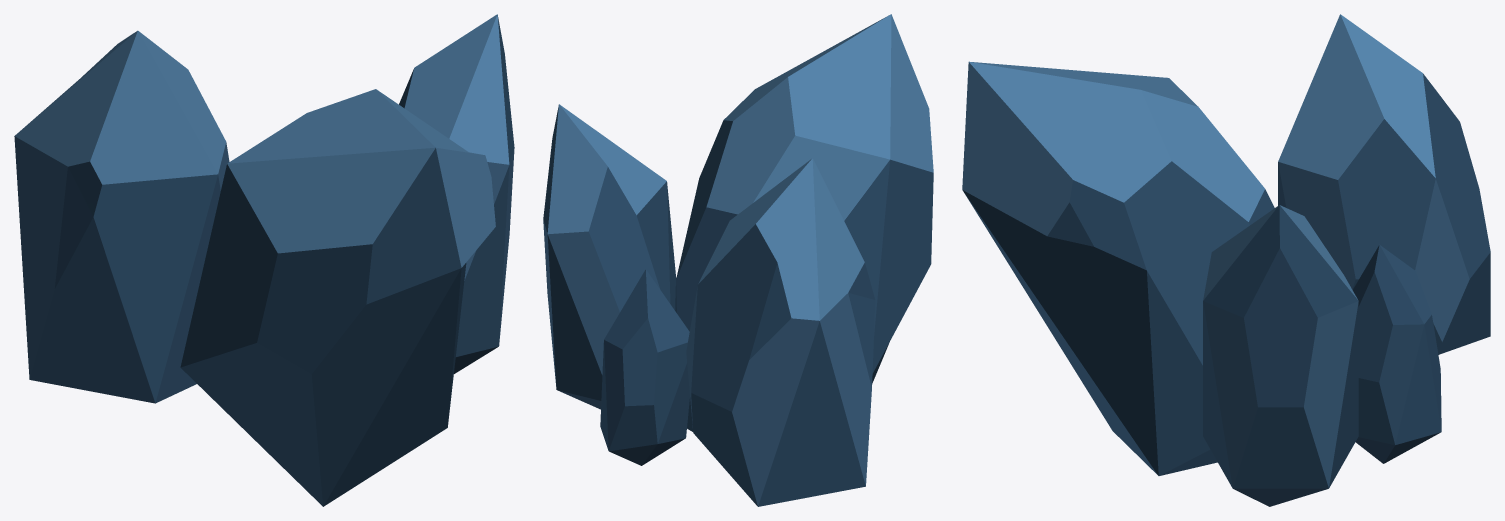
The model's file is MithrilRock2.glb.
3 renders of one model, left to right at view 1: azimuth 30°, elevation 25°; view 2: azimuth 150°, elevation 25°; view 3: azimuth 270°, elevation 25°, orthographic. The views are drawn at different scales.
Visible parts, largest first — view 1: MithrilRock2; view 2: MithrilRock2; view 3: MithrilRock2.
Part boxes in pixels (x1,y1,x2,y2): MithrilRock2: (14, 14, 514, 506); MithrilRock2: (543, 14, 933, 506); MithrilRock2: (962, 14, 1490, 506).
Bounding box in the file's own units: 0.8324 × 0.7668 × 0.95.
